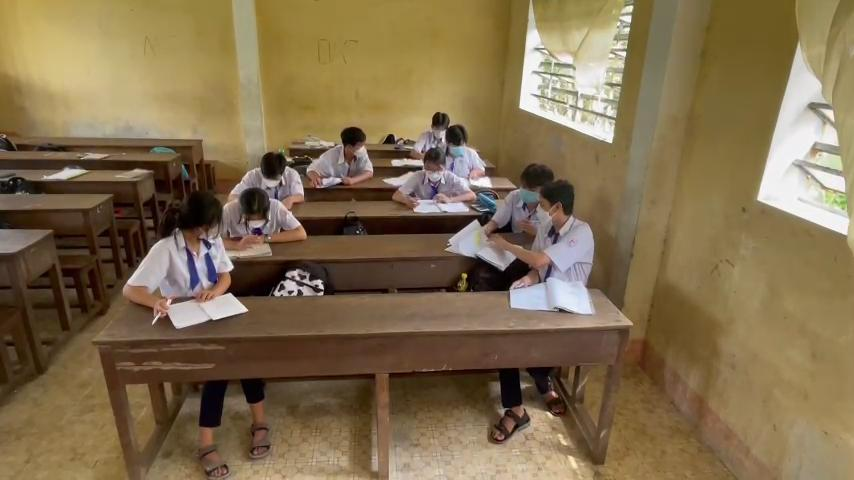Look Around: (165, 183, 226, 249), (326, 113, 375, 165), (529, 176, 578, 228)
Wave: (480, 228, 594, 271)
